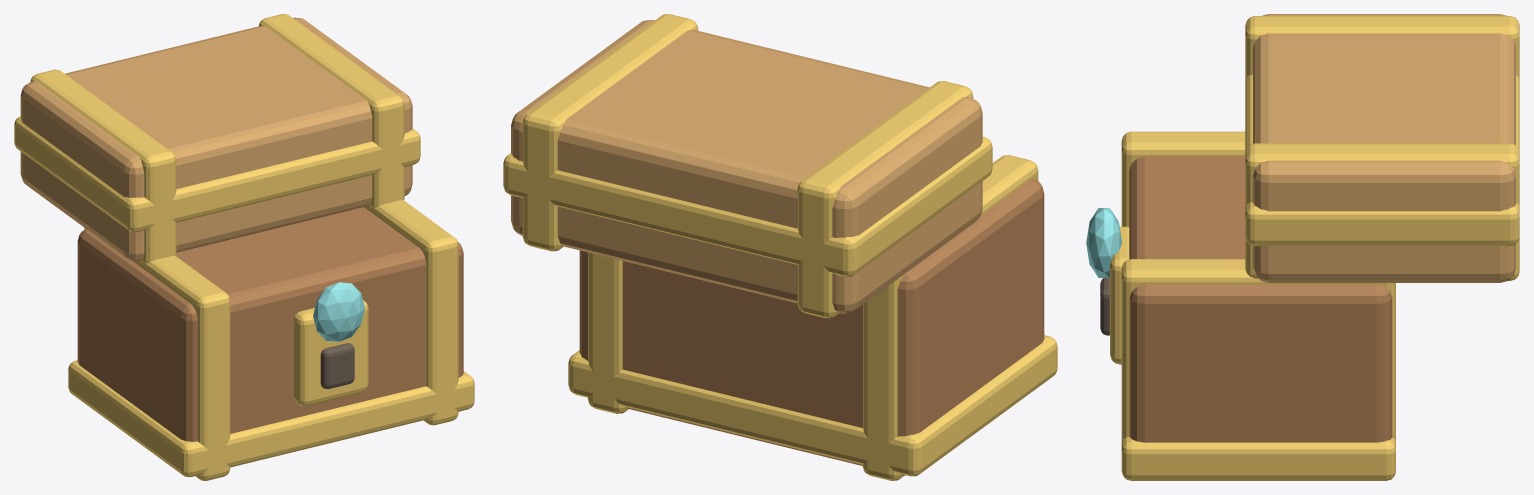
File: battle-chest.glb
3 views of the same model, side by side, from view 1: azimuth 30°, elevation 25°; view 2: azimuth 150°, elevation 25°; view 3: azimuth 270°, elevation 25° (orthographic). The views are drawn at different scales.
Visible parts, largest first — view 1: ChestBase, ChestLid, ChestBottomBand, ChestTopBand, ChestBand_-0.39, ChestBand_+0.39, ChestLidBand_-0.39, ChestLidBand_+0.39, ChestLockPlate, ChestGem, ChestLock; view 2: ChestLid, ChestBase, ChestBottomBand, ChestTopBand, ChestLidBand_-0.39, ChestLidBand_+0.39, ChestBand_-0.39, ChestBand_+0.39; view 3: ChestBase, ChestLid, ChestBottomBand, ChestTopBand, ChestLidBand_+0.39, ChestBand_+0.39, ChestLidBand_-0.39, ChestBand_-0.39, ChestGem, ChestLockPlate, ChestLock.
Part boxes in pixels (x1=…): ChestBase: x1=77, y1=207, x2=463, y2=441; ChestLid: x1=20, y1=17, x2=412, y2=261; ChestBottomBand: x1=68, y1=360, x2=474, y2=477; ChestTopBand: x1=14, y1=116, x2=420, y2=232; ChestBand_-0.39: x1=84, y1=228, x2=230, y2=480; ChestBand_+0.39: x1=364, y1=200, x2=458, y2=425; ChestLidBand_-0.39: x1=30, y1=69, x2=176, y2=263; ChestLidBand_+0.39: x1=259, y1=14, x2=404, y2=207; ChestLockPlate: x1=293, y1=300, x2=368, y2=406; ChestGem: x1=313, y1=282, x2=364, y2=341; ChestLock: x1=320, y1=343, x2=354, y2=389; ChestLid: x1=511, y1=20, x2=982, y2=313; ChestBase: x1=579, y1=179, x2=1044, y2=475; ChestBottomBand: x1=568, y1=335, x2=1057, y2=476; ChestTopBand: x1=503, y1=136, x2=992, y2=276; ChestLidBand_-0.39: x1=797, y1=81, x2=973, y2=318; ChestLidBand_+0.39: x1=522, y1=14, x2=698, y2=251; ChestBand_-0.39: x1=862, y1=155, x2=1038, y2=480; ChestBand_+0.39: x1=587, y1=252, x2=628, y2=413; ChestBase: x1=1129, y1=156, x2=1392, y2=442; ChestLid: x1=1253, y1=14, x2=1515, y2=282; ChestBottomBand: x1=1121, y1=437, x2=1395, y2=480; ChestTopBand: x1=1245, y1=74, x2=1519, y2=246; ChestLidBand_+0.39: x1=1245, y1=143, x2=1519, y2=280; ChestBand_+0.39: x1=1121, y1=259, x2=1395, y2=440; ChestLidBand_-0.39: x1=1245, y1=16, x2=1519, y2=78; ChestBand_-0.39: x1=1121, y1=131, x2=1245, y2=226; ChestGem: x1=1086, y1=208, x2=1122, y2=277; ChestLockPlate: x1=1110, y1=226, x2=1129, y2=364; ChestLock: x1=1100, y1=278, x2=1109, y2=335.
Size of the model in its own units: 1 by 0.93 by 1.12.
